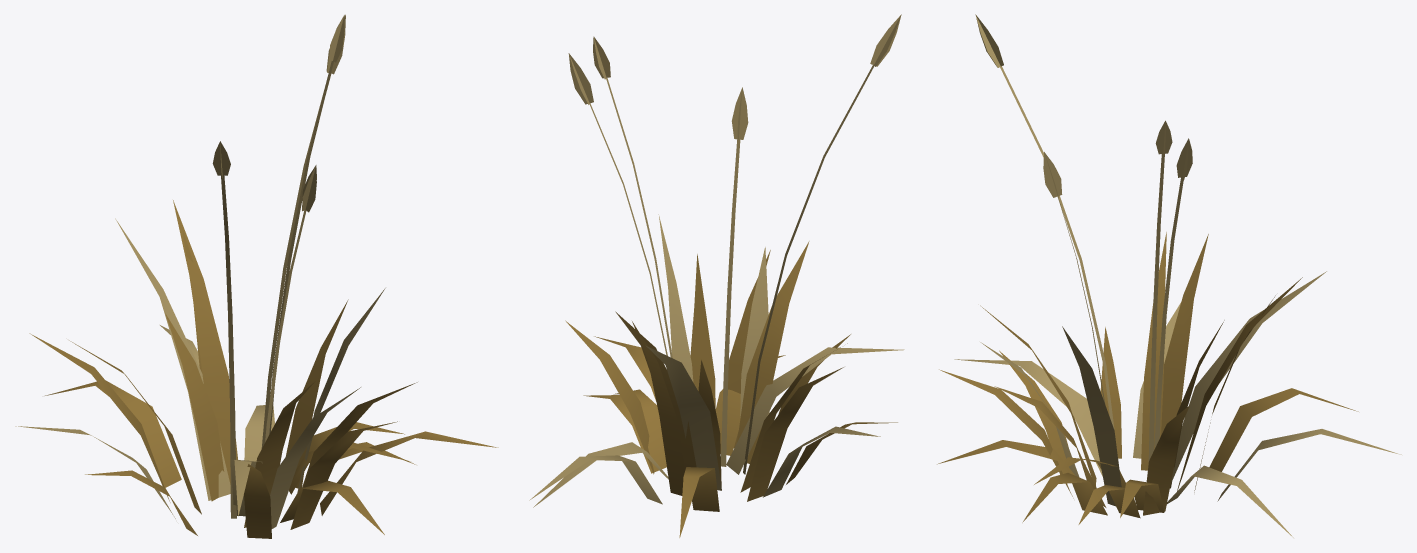
Rendered from grass_dry.glb.
3 renders of one model, left to right at view 1: azimuth 30°, elevation 25°; view 2: azimuth 150°, elevation 25°; view 3: azimuth 270°, elevation 25°, orthographic. The views are drawn at different scales.
Parts seen in each view (by area): view 1: GrassDry_mesh; view 2: GrassDry_mesh; view 3: GrassDry_mesh.
Part boxes in pixels (x1=…): GrassDry_mesh: x1=15, y1=14, x2=498, y2=538; GrassDry_mesh: x1=529, y1=14, x2=904, y2=537; GrassDry_mesh: x1=937, y1=14, x2=1401, y2=537.
Bounding box in the file's own units: 0.902 × 0.991 × 0.9889.
